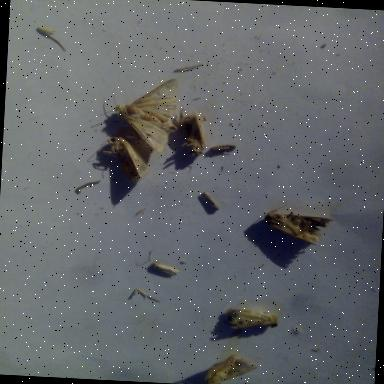abw: (96, 70, 182, 154), (248, 198, 338, 248), (98, 132, 154, 186), (172, 104, 212, 159), (201, 351, 263, 384), (222, 304, 282, 336)
